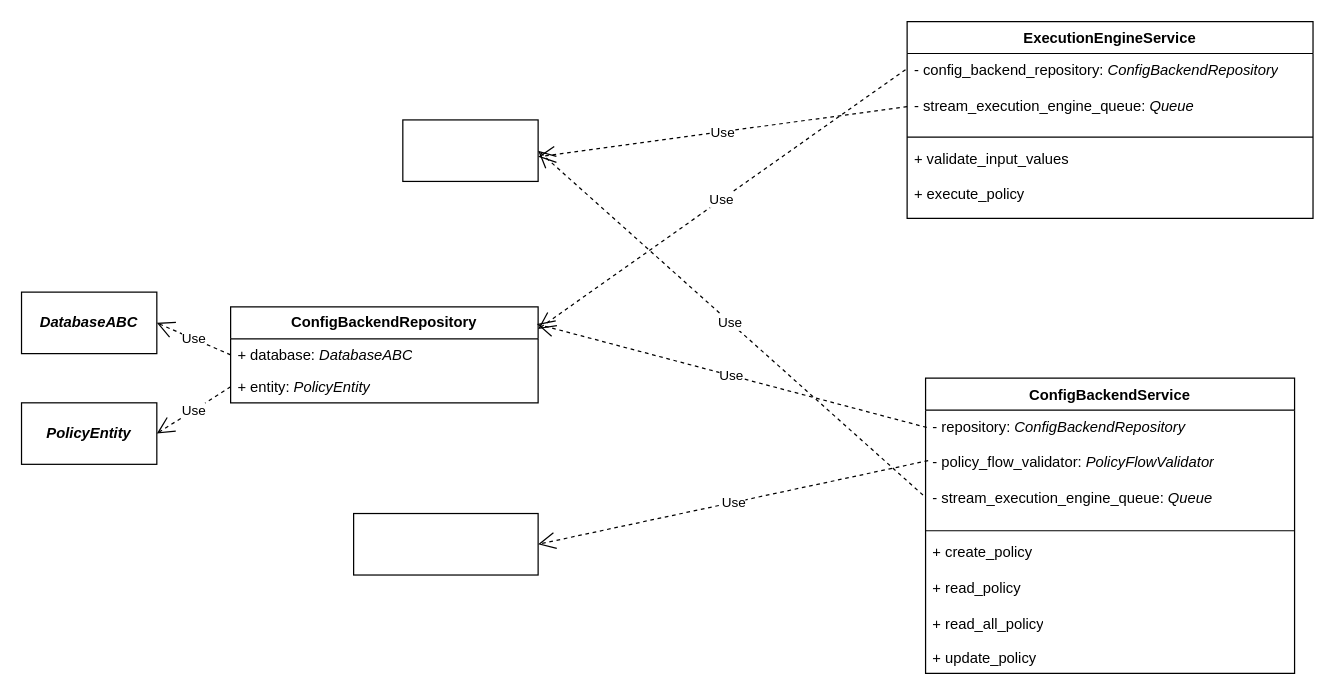
Some shapes in this 1335 by 699 pixel diagram are drawn without their labels. The shapes that lost their labels are listed below. From the top down, each one's centre as x and y in pixels, then its label:
the point at 470,150: Queue
the point at 445,543: PolicyFlowValidator
